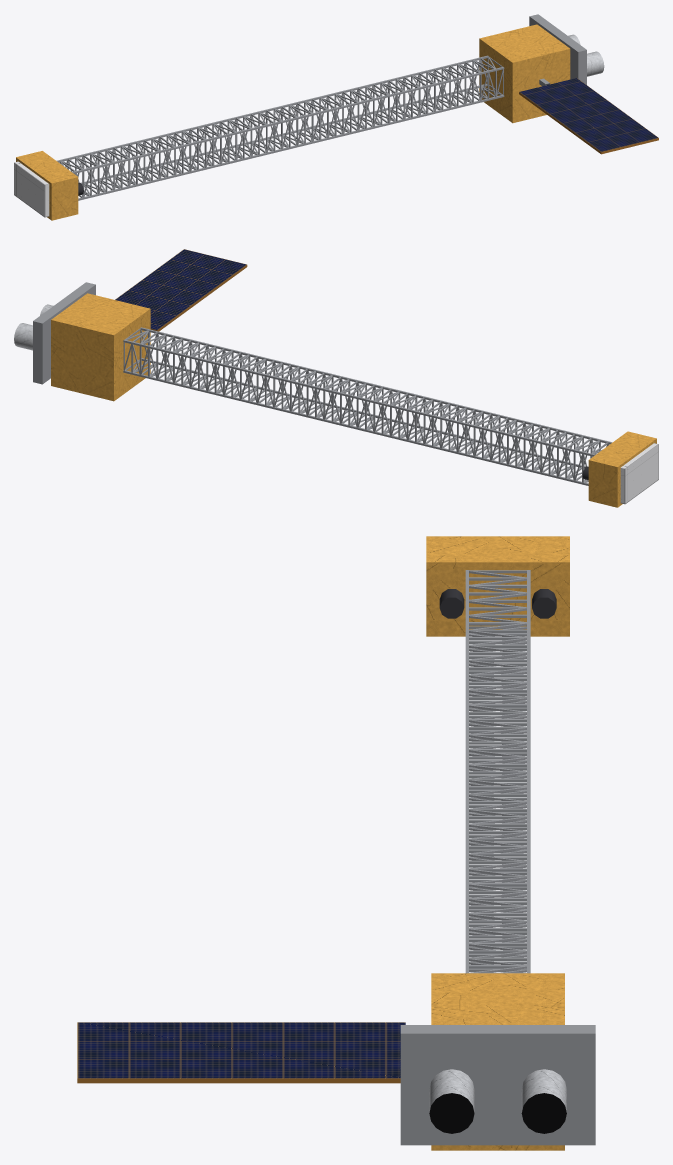
The model's file is nustar.glb.
3 views of the same model, one above another, from view 1: azimuth 30°, elevation 25°; view 2: azimuth 150°, elevation 25°; view 3: azimuth 270°, elevation 25° (orthographic). The views are drawn at different scales.
Parts seen in each view (by area): view 1: nustar; view 2: nustar; view 3: nustar.
Part boxes in pixels (box(x1,y1,x2,y2)): nustar: box(14, 14, 658, 220); nustar: box(14, 249, 658, 507); nustar: box(77, 536, 595, 1150).
Bounding box in the file's own units: 12.55 × 1.35 × 5.05.
Materials: 8 (4 with a texture image).
